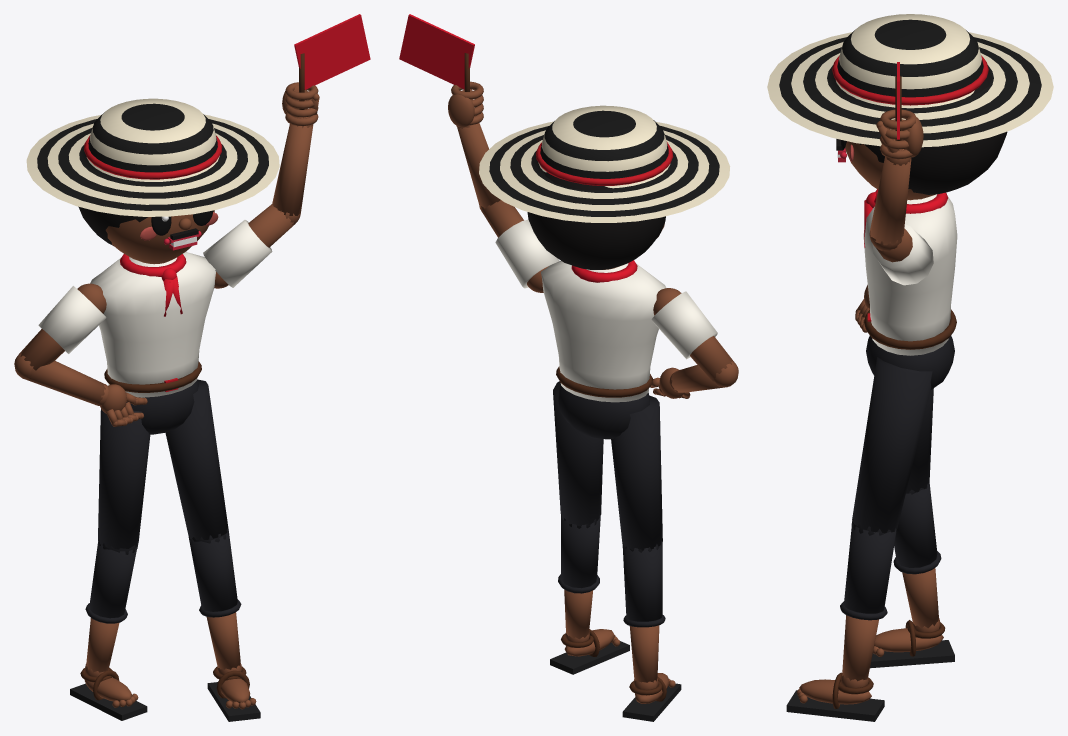
Rendered from bailarin-blanco-camisa.glb.
The picture shows the model from 3 angles, left to right: view 1: azimuth 30°, elevation 25°; view 2: azimuth 150°, elevation 25°; view 3: azimuth 270°, elevation 25°; orthographic projection. The views are drawn at different scales.
Parts seen in each view (by area): view 1: Sombrero_Vueltiao, Torso_Camisa, Muslo_Der, Muslo_Izq, Panuelo_Ondeando, Pantorrilla_Pantalon_Der, Pantorrilla_Pantalon_Izq, Manga_Der, Cabeza, Brazo_Der_Inf, Manga_Izq, Pelvis_Pantalon (+13 smaller); view 2: Sombrero_Vueltiao, Torso_Camisa, Muslo_Izq, Cabello, Muslo_Der, Panuelo_Ondeando, Pantorrilla_Pantalon_Izq, Pelvis_Pantalon, Pantorrilla_Pantalon_Der, Manga_Izq, Manga_Der, Pantorrilla_Izq (+12 smaller); view 3: Sombrero_Vueltiao, Muslo_Der, Torso_Camisa, Cabello, Pantorrilla_Pantalon_Der, Pantorrilla_Pantalon_Izq, Brazo_Der_Inf, Pelvis_Pantalon, Pantorrilla_Der, Manga_Der, Pantorrilla_Izq, Suela (+11 smaller).
Part boxes in pixels (<box>): Sombrero_Vueltiao: <box>26,98,279,216</box>; Torso_Camisa: <box>90,252,215,397</box>; Muslo_Der: <box>165,379,228,540</box>; Muslo_Izq: <box>98,409,150,549</box>; Panuelo_Ondeando: <box>294,14,370,89</box>; Pantorrilla_Pantalon_Der: <box>188,530,237,611</box>; Pantorrilla_Pantalon_Izq: <box>89,540,137,618</box>; Manga_Der: <box>203,220,272,287</box>; Cabeza: <box>105,210,214,264</box>; Brazo_Der_Inf: <box>272,124,312,215</box>; Manga_Izq: <box>38,286,106,353</box>; Pelvis_Pantalon: <box>126,379,198,434</box>; Sombrero_Vueltiao: <box>479,105,730,222</box>; Torso_Camisa: <box>541,261,666,402</box>; Muslo_Izq: <box>611,395,662,550</box>; Cabello: <box>527,171,665,269</box>; Muslo_Der: <box>553,381,603,525</box>; Panuelo_Ondeando: <box>399,14,474,89</box>; Pantorrilla_Pantalon_Izq: <box>622,543,662,621</box>; Pelvis_Pantalon: <box>558,384,649,439</box>; Pantorrilla_Pantalon_Der: <box>561,516,600,588</box>; Manga_Izq: <box>651,291,717,359</box>; Manga_Der: <box>495,219,559,288</box>; Pantorrilla_Izq: <box>629,625,659,682</box>; Sombrero_Vueltiao: <box>767,14,1053,147</box>; Muslo_Der: <box>852,357,932,533</box>; Torso_Camisa: <box>863,197,957,355</box>; Cabello: <box>859,69,1007,194</box>; Pantorrilla_Pantalon_Der: <box>844,522,896,613</box>; Pantorrilla_Pantalon_Izq: <box>894,483,937,567</box>; Brazo_Der_Inf: <box>870,156,911,245</box>; Pelvis_Pantalon: <box>866,335,954,389</box>; Pantorrilla_Der: <box>842,615,878,681</box>; Manga_Der: <box>872,224,933,285</box>; Pantorrilla_Izq: <box>902,568,938,628</box>; Suela: <box>786,690,884,721</box>.
Size of the model in its own units: 1.14 by 1.98 by 0.72.
